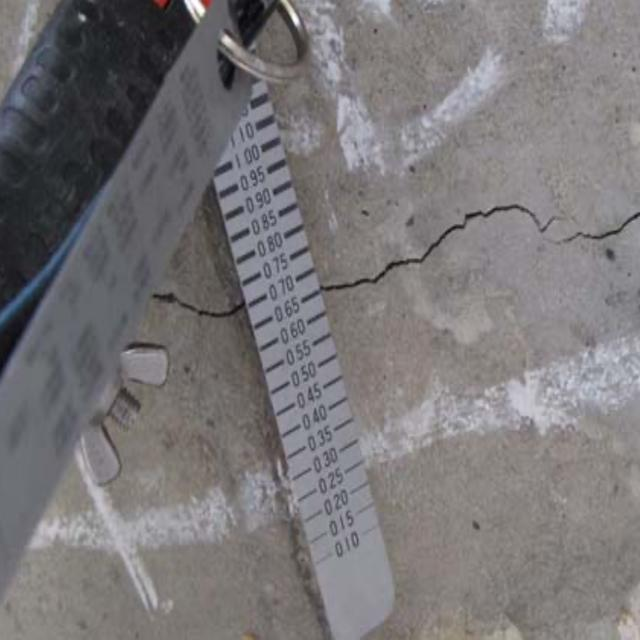crack: (334, 197, 640, 309), (149, 263, 247, 346)
